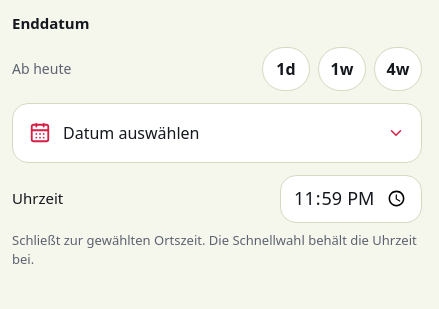
Scenario: EndDatePicker › defaults to end of day and carries the date across year boundaries
The image size is (439, 309).
Click the button "1d" at [286, 68], box [262, 46, 310, 90]
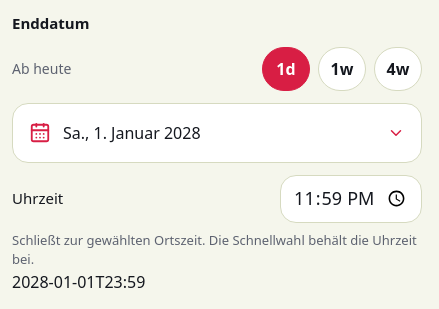
Result: the text named "Stored deadline" reads "2028-01-01T23:59" at [12, 270, 145, 292]
Replace the text in the time field labelled "Uhrzeit" with "08:15" at [351, 198], box [280, 174, 422, 222]
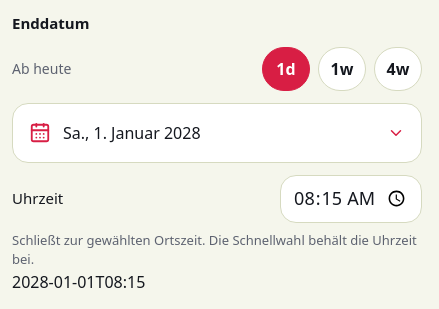
Result: the text named "Stored deadline" reads "2028-01-01T08:15" at [12, 270, 145, 292]
